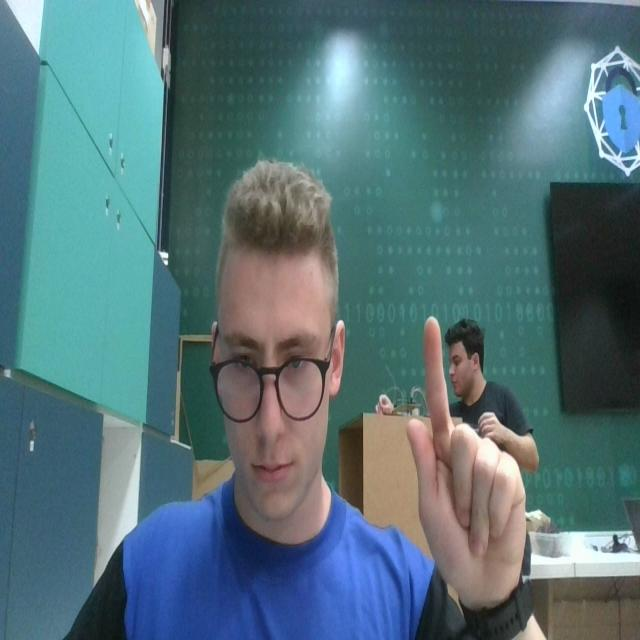G: (405, 315, 528, 599)
